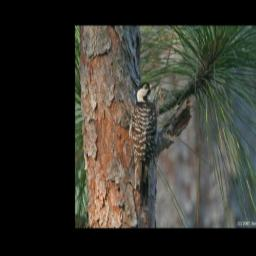Woodpecker: (121, 81, 162, 214)
